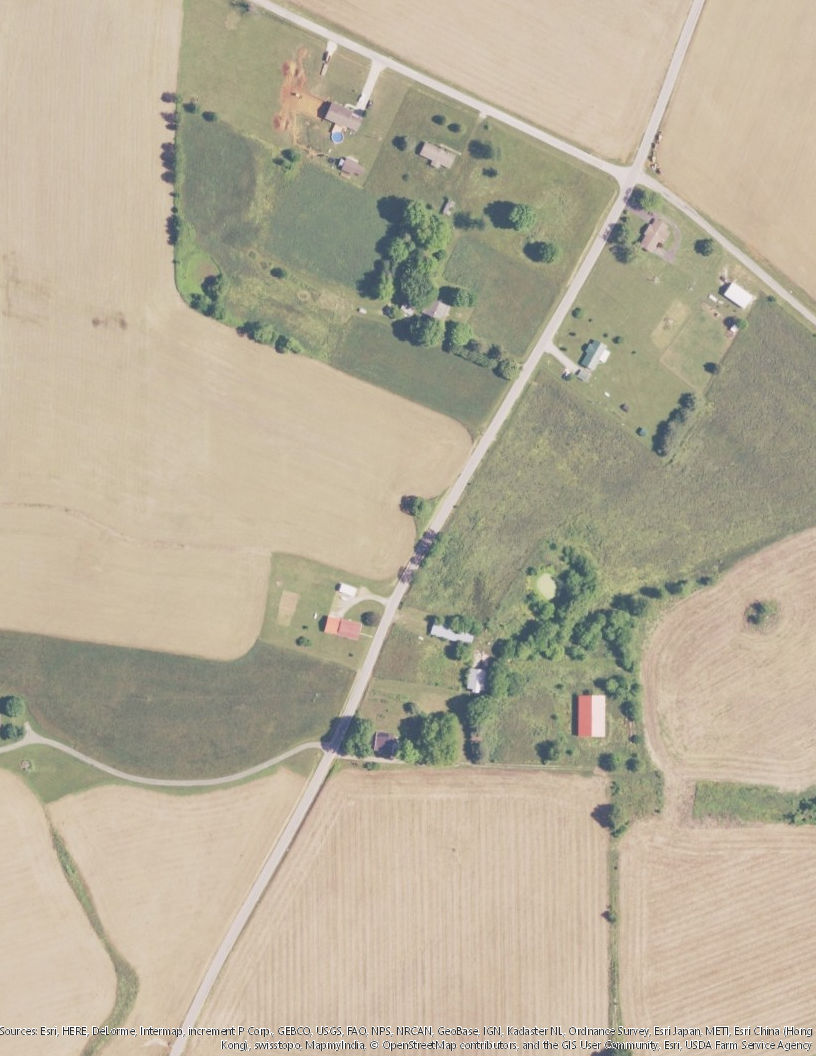cafo: (426, 613, 477, 649)
